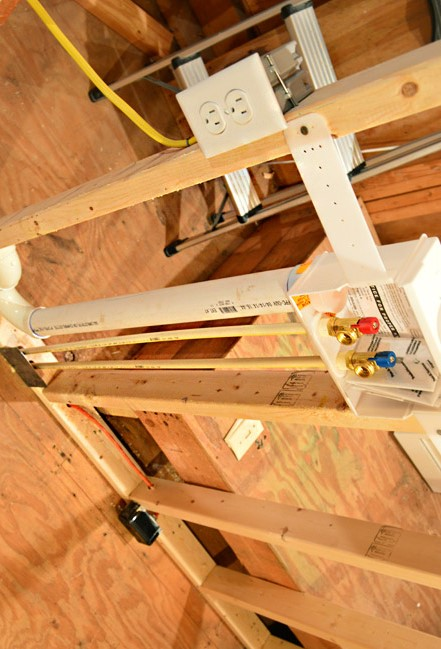outlet: (199, 99, 224, 132), (224, 90, 250, 120)
